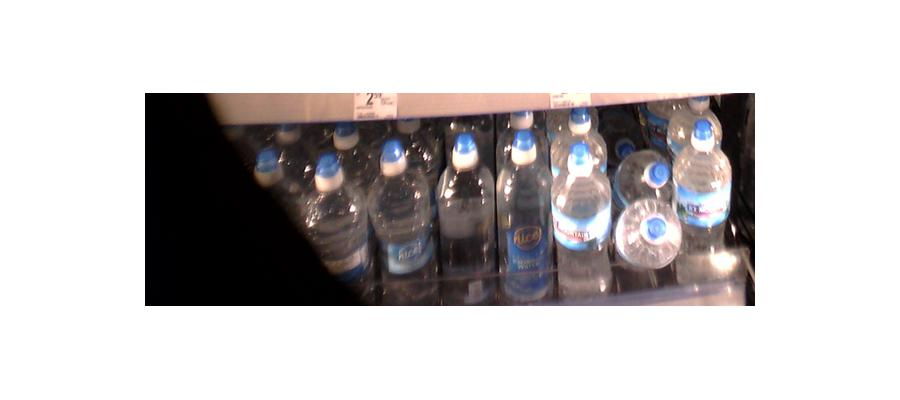bottle: (369, 132, 436, 297), (498, 114, 555, 303), (677, 109, 734, 292), (438, 127, 496, 304), (302, 134, 368, 289), (555, 118, 613, 294), (616, 151, 681, 291)
